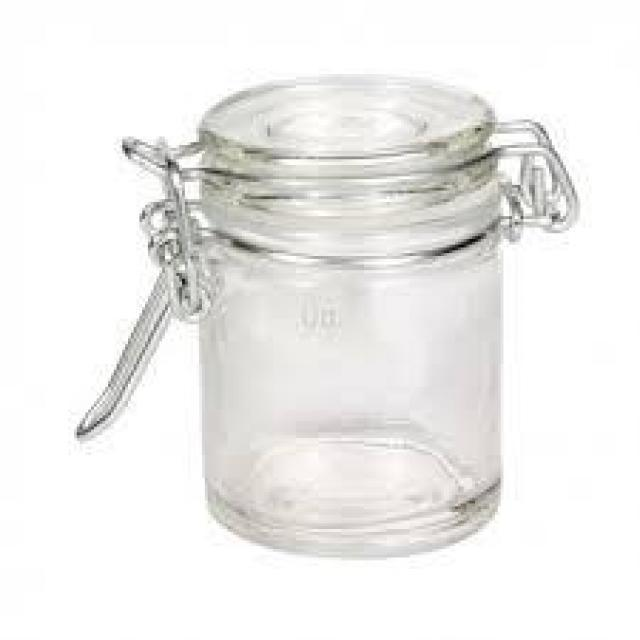glass: (68, 66, 583, 564)
